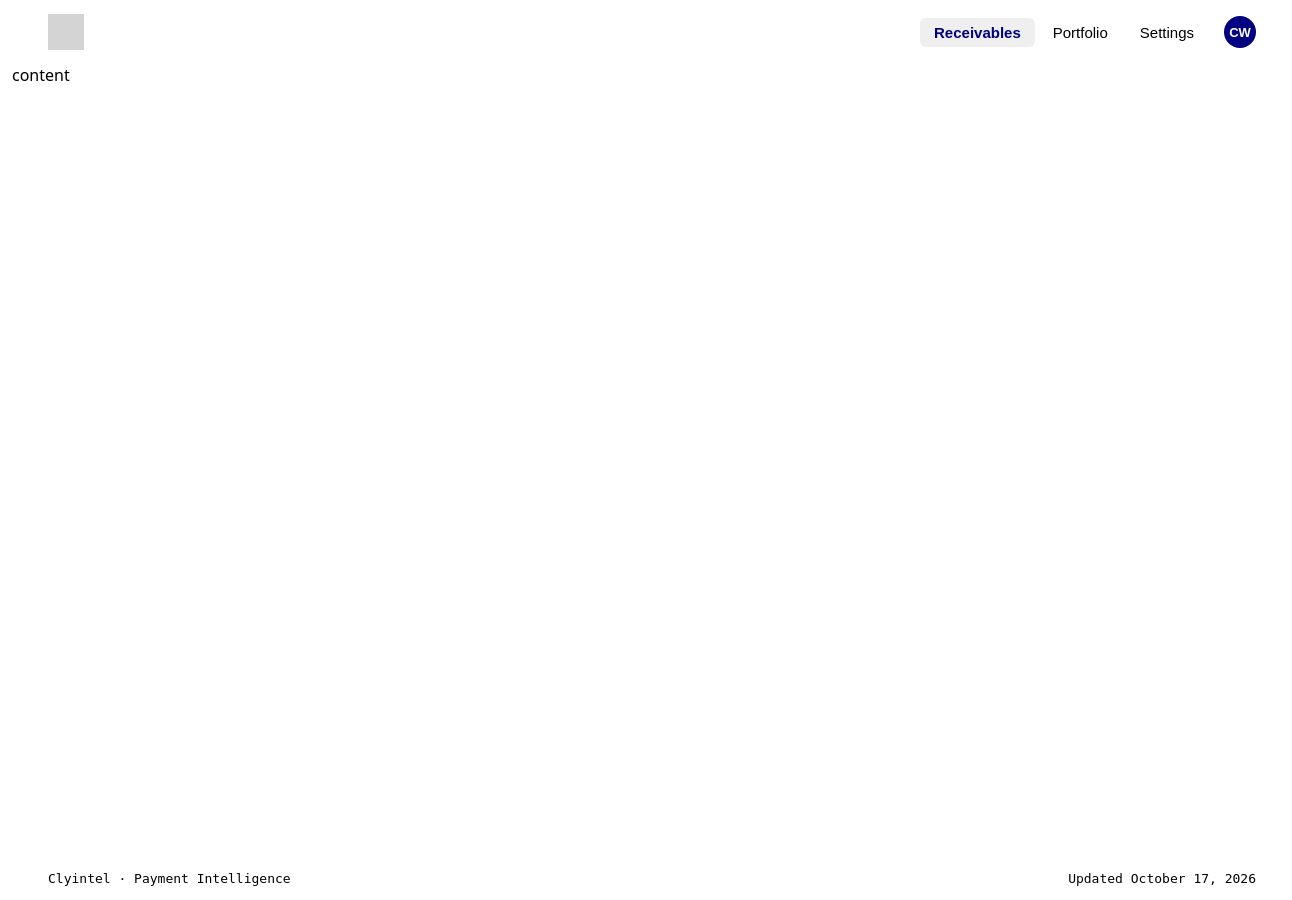
Test: AppShell — account-menu identity › lets client enrichment override the seed (email + name + plan)
Click the button with aria-label "Account menu": (1240, 32) [1224,16,1256,48]
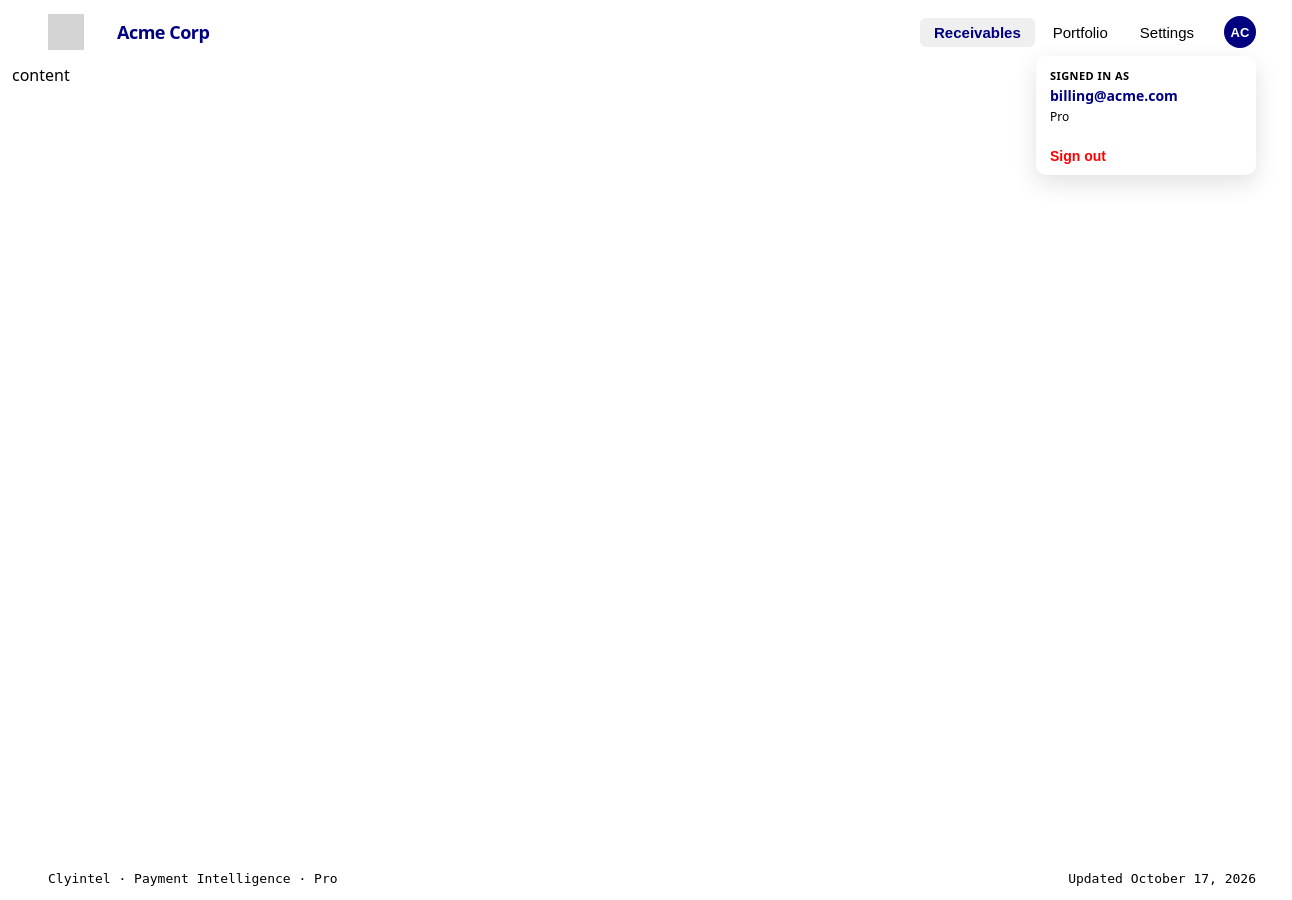
Expected: the text "billing@acme.com" is shown, [1050,86,1178,105]
Expected: the text "Pro" is shown, [1050,108,1069,125]
